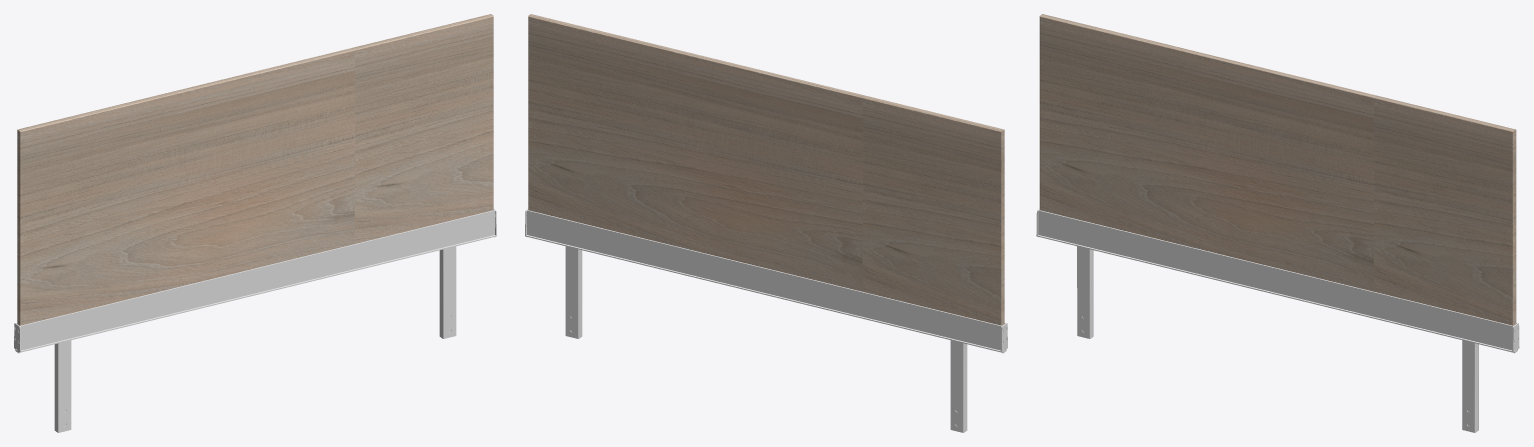
Rendered from KUAC690000_150.glb.
The picture shows the model from 3 angles, left to right: view 1: azimuth 30°, elevation 25°; view 2: azimuth 150°, elevation 25°; view 3: azimuth 330°, elevation 25°; orthographic projection.
Visible parts, largest first — view 1: 0 (×6); view 2: 0 (×6); view 3: 0 (×6).
Part boxes in pixels (left/top/right/bottom): 0 (×6): left=14, top=14, right=496, bottom=432; 0 (×6): left=525, top=14, right=1007, bottom=432; 0 (×6): left=1036, top=14, right=1519, bottom=432.
Size of the model in its own units: 1.43 by 0.8886 by 0.032.
Materials: 2 (1 with a texture image).
